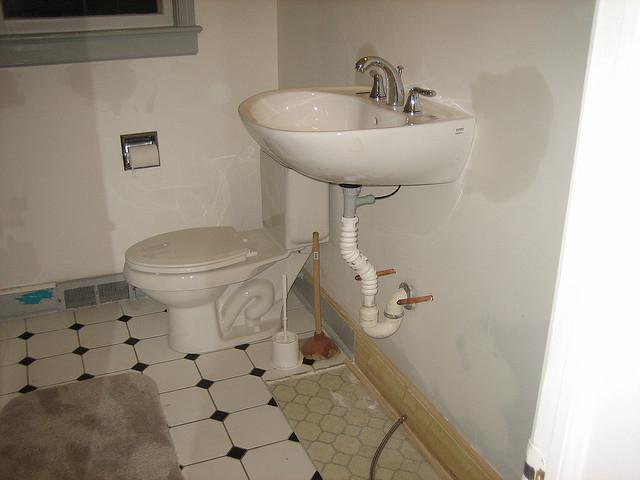Lavamanos: (225, 45, 484, 356)
Sanitario: (107, 108, 347, 360)
